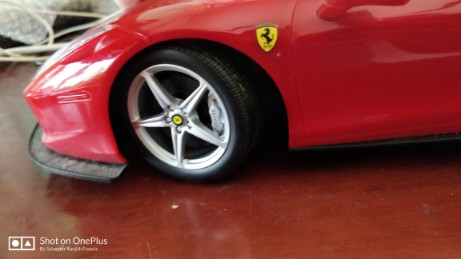unaligned_wheel: (113, 37, 282, 198)
